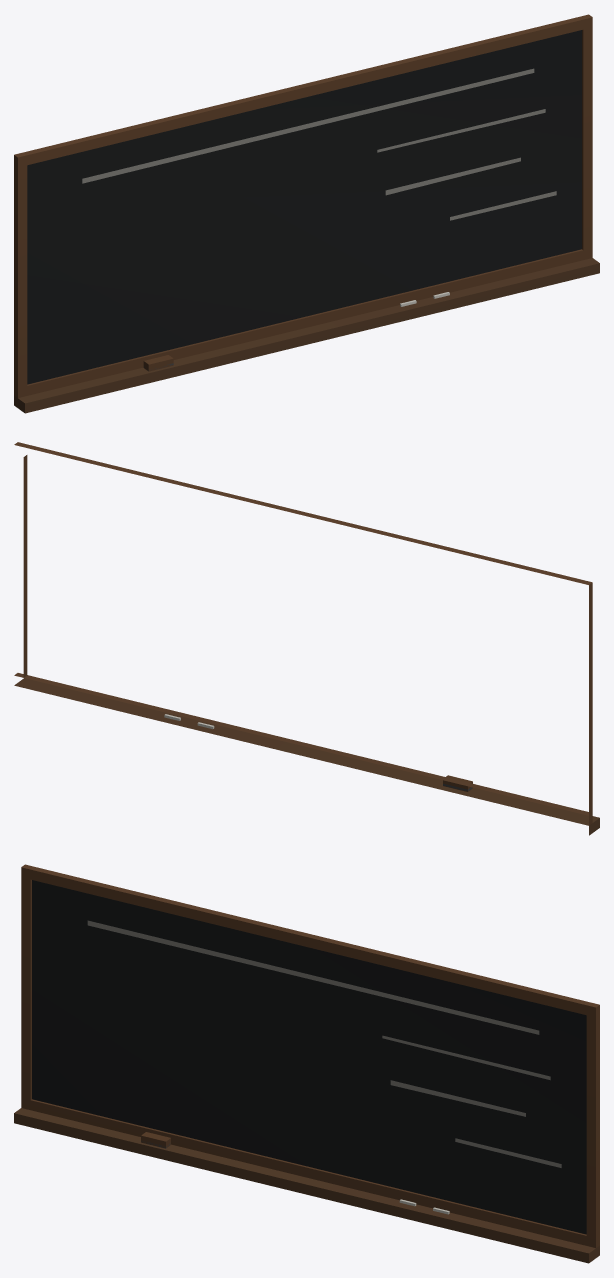
The model's file is board.chalk.black.glb.
3 views of the same model, one above another, from view 1: azimuth 30°, elevation 25°; view 2: azimuth 150°, elevation 25°; view 3: azimuth 330°, elevation 25° (orthographic).
Parts seen in each view (by area): view 1: board_chalk_black; view 2: board_chalk_black; view 3: board_chalk_black.
Part boxes in pixels (left/top/right/bottom): board_chalk_black: left=14, top=14, right=599, bottom=413; board_chalk_black: left=14, top=442, right=599, bottom=835; board_chalk_black: left=14, top=864, right=599, bottom=1263.
Size of what is drawn, in the model's own units: 3 by 1.25 by 0.1.
